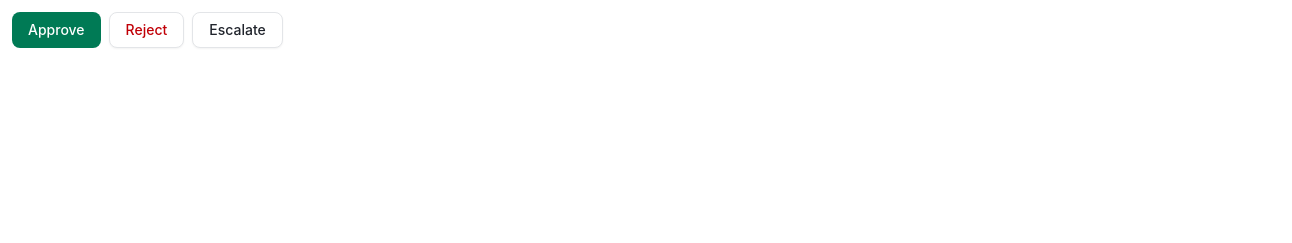
Test: approver decision panel › will not reject without a reason
What coordinates should you click on to do the following:
click the button "Reject"
I would click on:
 (146, 30)
Its box is [109, 12, 184, 48].
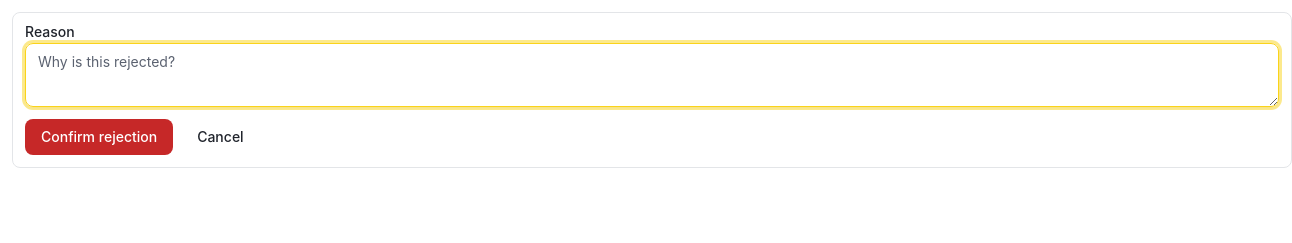
What coordinates should you click on to do the following:
click the button "Confirm rejection"
I would click on:
 (99, 137)
Its box is [25, 119, 173, 155].
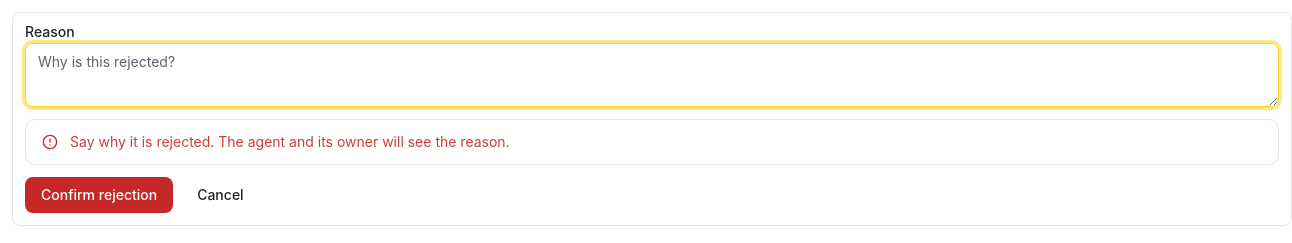
expect the text "Say why it is rejected" is shown: met, box [70, 133, 510, 150]
